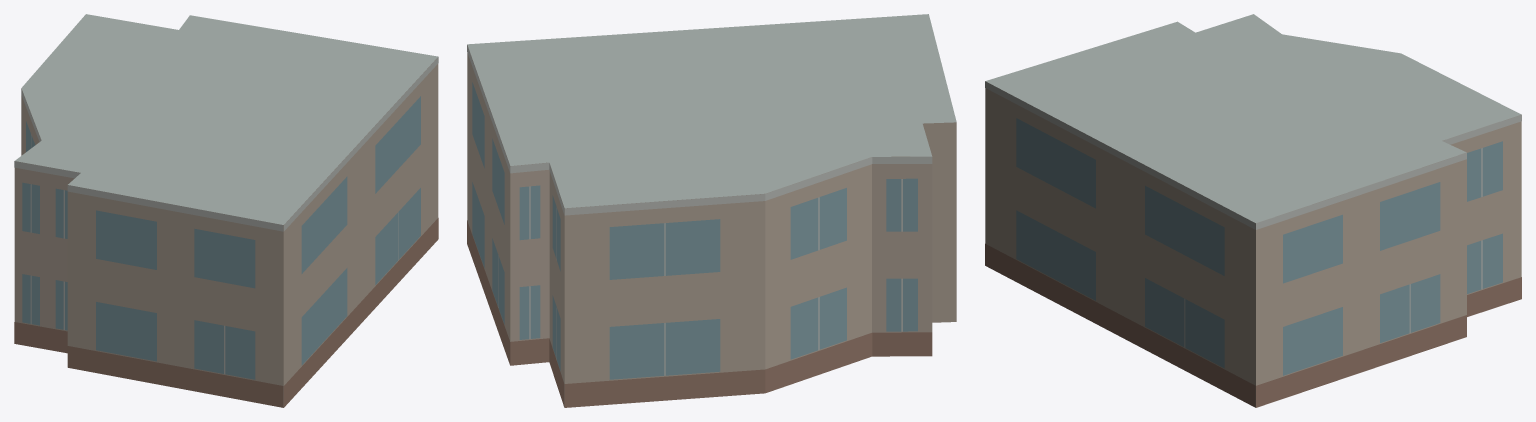
The model's file is survey-upis-32488527.glb.
3 renders of one model, left to right at view 1: azimuth 30°, elevation 25°; view 2: azimuth 150°, elevation 25°; view 3: azimuth 270°, elevation 25°, orthographic. The views are drawn at different scales.
Parts seen in each view (by area): view 1: survey-upis-32488527.tmp; view 2: survey-upis-32488527.tmp; view 3: survey-upis-32488527.tmp.
Part boxes in pixels (x1,y1,x2,y2): survey-upis-32488527.tmp: (14,14,438,407); survey-upis-32488527.tmp: (467,14,956,407); survey-upis-32488527.tmp: (985,14,1521,407).
Bounding box in the file's own units: 16.31 × 6.7 × 17.66.
